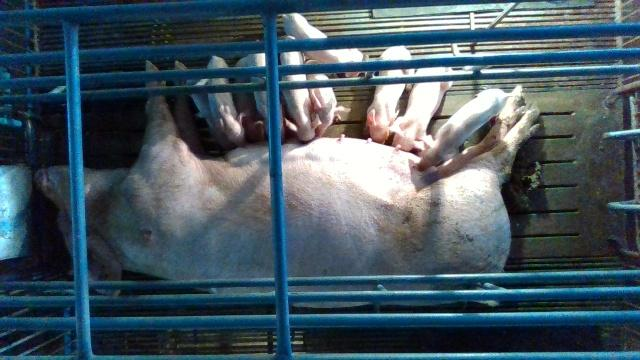piglet: (417, 89, 514, 171), (282, 12, 369, 78), (388, 66, 453, 153), (367, 46, 416, 145), (280, 34, 322, 142), (206, 54, 246, 149), (232, 55, 263, 140)
sow-sleep-lactate: (37, 57, 540, 316)
